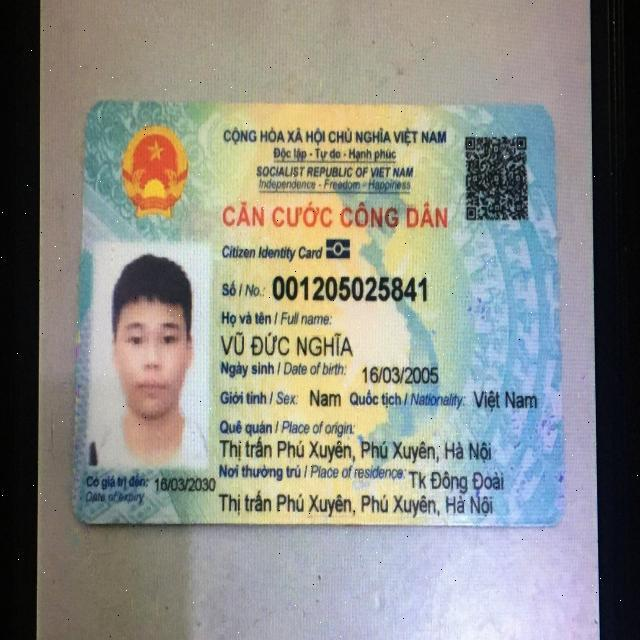current_place: (214, 488, 501, 520), (408, 468, 510, 492)
dob: (358, 362, 443, 387)
expire_date: (152, 473, 218, 499)
gender: (304, 385, 343, 411)
id: (269, 273, 429, 309)
name: (217, 328, 360, 358)
nationality: (472, 387, 540, 417)
origin_place: (217, 434, 498, 465)
